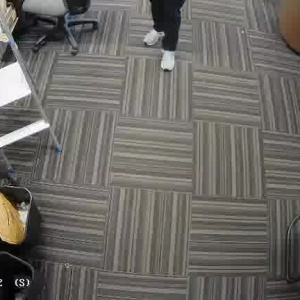person: (142, 0, 186, 76)
